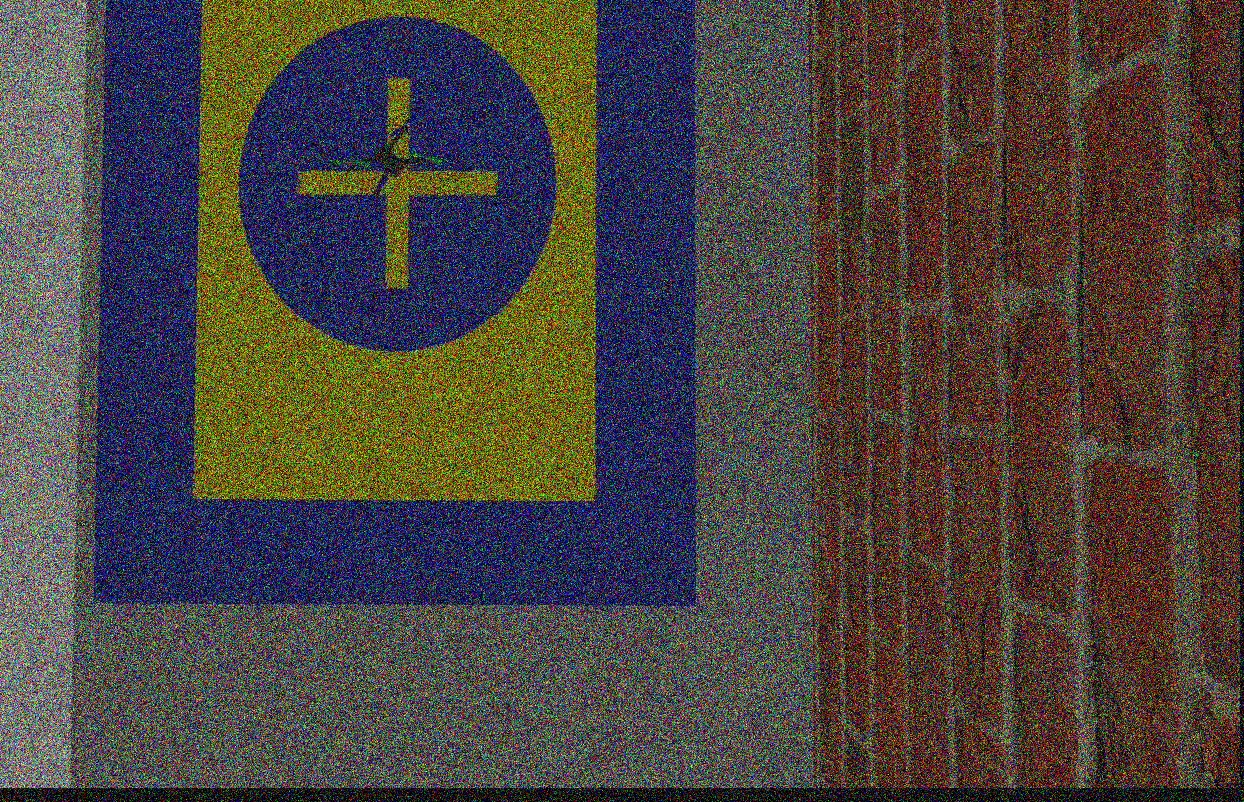large_base: (93, 1, 696, 613)
